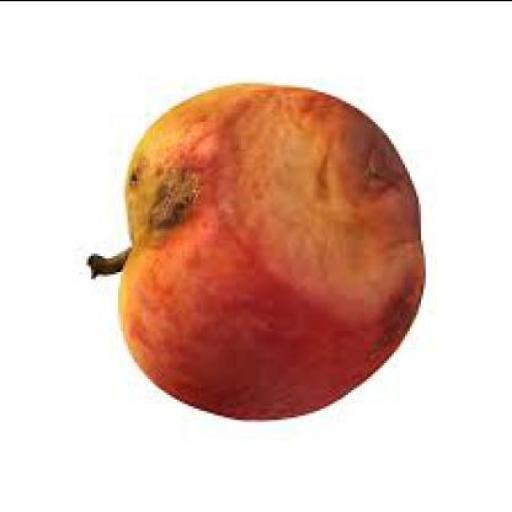biodegradable: (84, 84, 423, 423)
